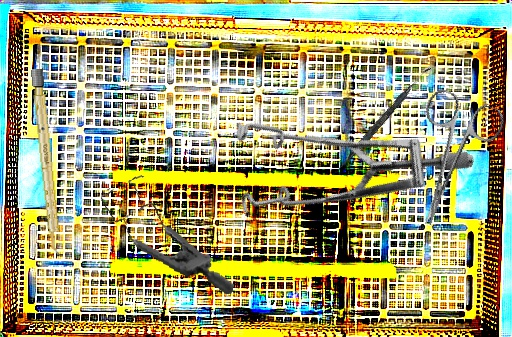Iris Scissors: (388, 85, 508, 238)
Scalpel Handle: (30, 68, 63, 256)
Spatula Surgical: (334, 63, 431, 177)
Speculum: (199, 43, 477, 300), (88, 169, 250, 295)
